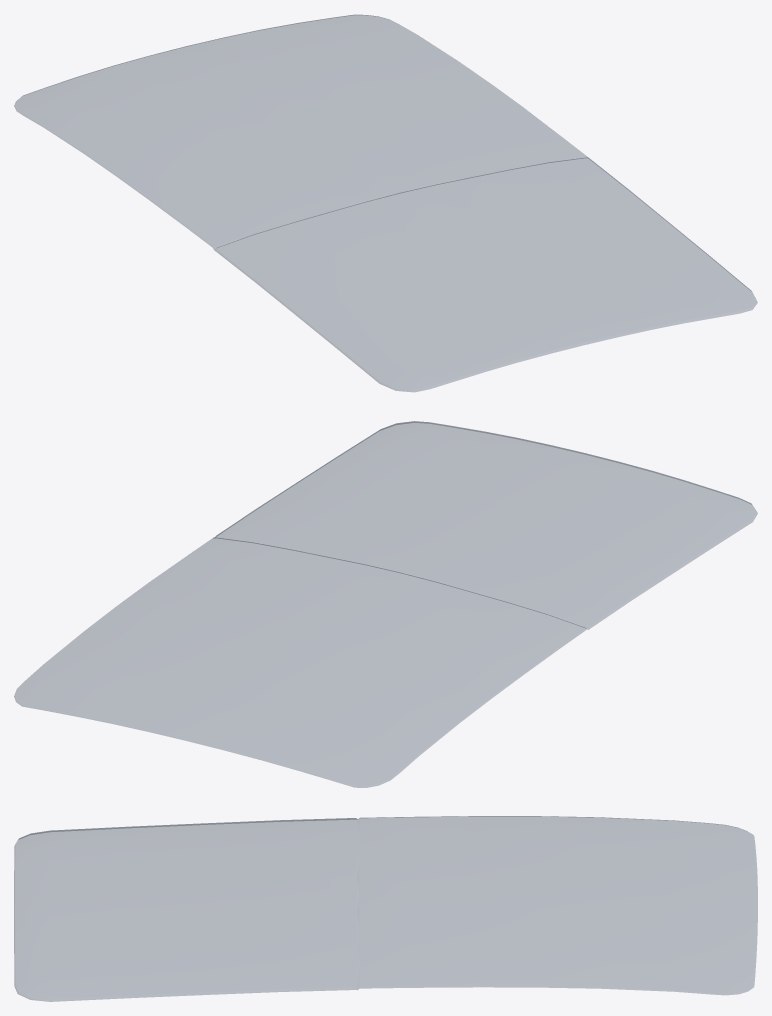
Rendered from Roof_Glass.glb.
3 renders of one model, top to bottom at view 1: azimuth 30°, elevation 25°; view 2: azimuth 150°, elevation 25°; view 3: azimuth 270°, elevation 25°, orthographic. The views are drawn at different scales.
Parts seen in each view (by area): view 1: Roof_Glass; view 2: Roof_Glass; view 3: Roof_Glass.
Boxes of the visible parts, x1,y1,x2,y2 form: Roof_Glass: (14,14,757,391); Roof_Glass: (14,421,757,787); Roof_Glass: (14,816,757,1001).
Bounding box in the file's own units: 0.7653 × 0.0543 × 1.41.
